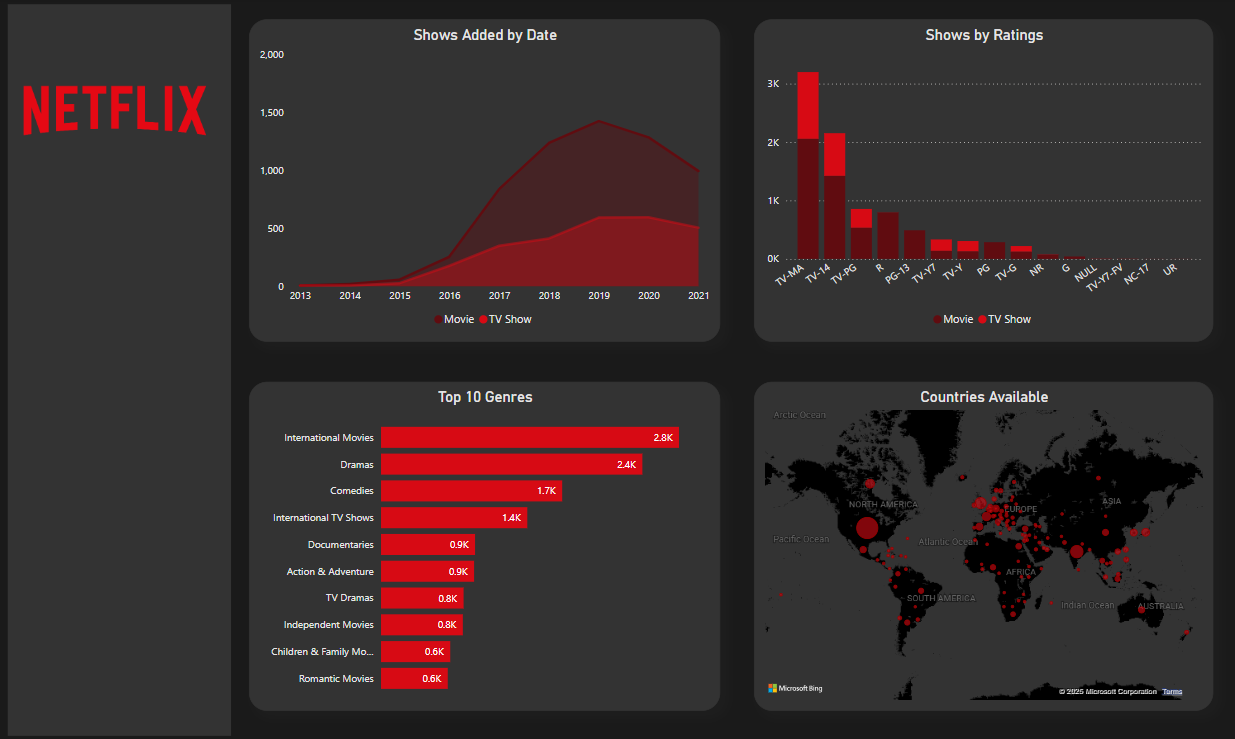

Layout of this report page (visuals, bound fields, positions):
{"tool":"powerbi","page":{"name":"Overview","canvas":[1500,900],"ordinal":0},"visuals":[{"type":"shape","box":[10.9,7.8,270.3,885.9],"z":0},{"type":"columnChart","title":"Shows by Ratings","fields":{"Category":["netflix_titles.rating"],"Y":["CountNonNull(netflix_titles.show_id)"],"Series":["netflix_titles.type"]},"box":[914.1,25,556.2,390.6],"z":1000},{"type":"clusteredBarChart","title":"Top 10 Genres","fields":{"Category":["Netflix_listedin.listed_in"],"Y":["CountNonNull(Netflix_listedin.show_id)"]},"box":[303.1,464.1,570.3,398.4],"z":2000},{"type":"map","title":"Countries Available","fields":{"Category":["Countries_released.country"],"Size":["CountNonNull(Countries_released.show_id)"]},"box":[914.1,464.1,556.2,398.4],"z":3000},{"type":"areaChart","title":"Shows Added by Date","fields":{"Category":["netflix_titles.date_added.Variation.Date Hierarchy.Year"],"Y":["CountNonNull(netflix_titles.show_id)"],"Series":["netflix_titles.type"]},"box":[303.1,25,570.3,390.6],"z":4000},{"type":"image","box":[0,0,281.2,264.1],"z":5000}]}

Visuals, with their boxes in screenshot pixels (x1, y1, x2, y2), scaled from the page's 1500x900 canvas onto the 1235x739 screenshot:
shape: [9,6,232,734]
"Shows by Ratings" columnChart: [753,21,1211,341]
"Top 10 Genres" clusteredBarChart: [250,381,719,708]
"Countries Available" map: [753,381,1211,708]
"Shows Added by Date" areaChart: [250,21,719,341]
image: [0,0,232,217]
